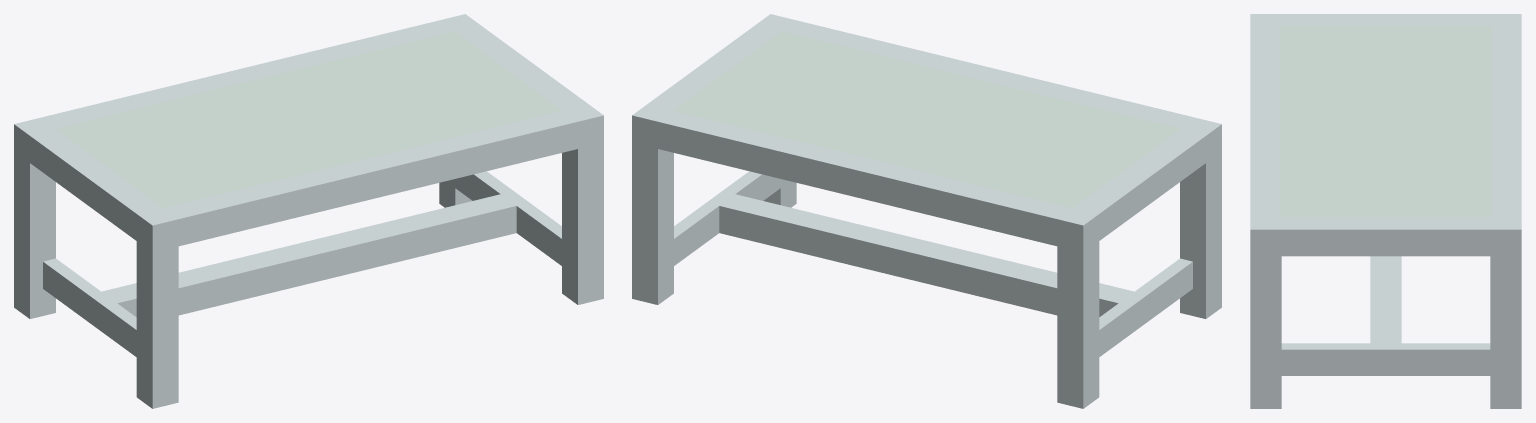
File: tableGlass.glb
3 renders of one model, left to right at view 1: azimuth 30°, elevation 25°; view 2: azimuth 150°, elevation 25°; view 3: azimuth 270°, elevation 25°, orthographic. The views are drawn at different scales.
Visible parts, largest first — view 1: tableGlass(Clone); view 2: tableGlass(Clone); view 3: tableGlass(Clone).
Part boxes in pixels (x1,y1,x2,y2): tableGlass(Clone): (14,14,603,408); tableGlass(Clone): (632,14,1221,408); tableGlass(Clone): (1250,14,1521,408).
Bounding box in the file's own units: 1.71 × 0.6633 × 0.9082.
Materials: 2 (2 with a texture image).
